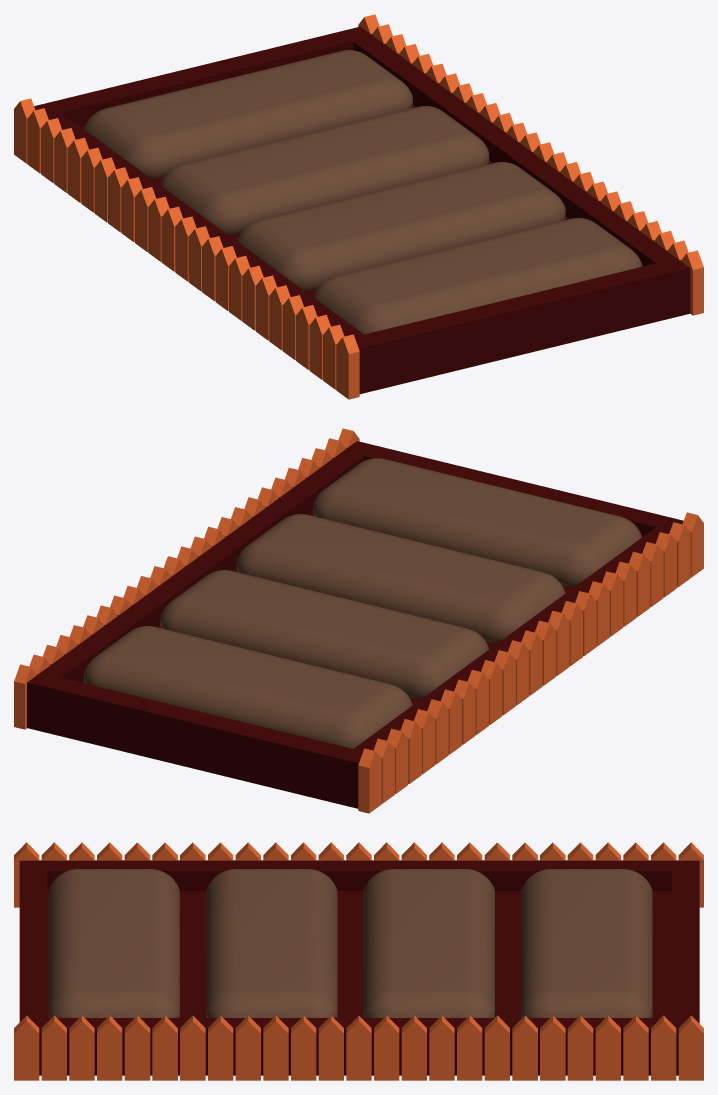
3 views of the same model, one above another, from view 1: azimuth 30°, elevation 25°; view 2: azimuth 150°, elevation 25°; view 3: azimuth 270°, elevation 25° (orthographic). The views are drawn at different scales.
Visible parts, largest first — view 1: Cube.002, Cube, Cube.001; view 2: Cube.002, Cube, Cube.001; view 3: Cube.002, Cube.001, Cube.
Boxes of the visible parts, x1,y1,x2,y2 form: Cube.002: (84, 50, 642, 334); Cube: (34, 26, 690, 394); Cube.001: (14, 14, 703, 399); Cube.002: (84, 458, 641, 748); Cube: (27, 441, 683, 808); Cube.001: (14, 428, 703, 813); Cube.002: (48, 869, 652, 1017); Cube.001: (14, 842, 703, 1080); Cube: (19, 860, 699, 1075).
Bounding box in the file's own units: 16.31 × 2.56 × 26.63.
